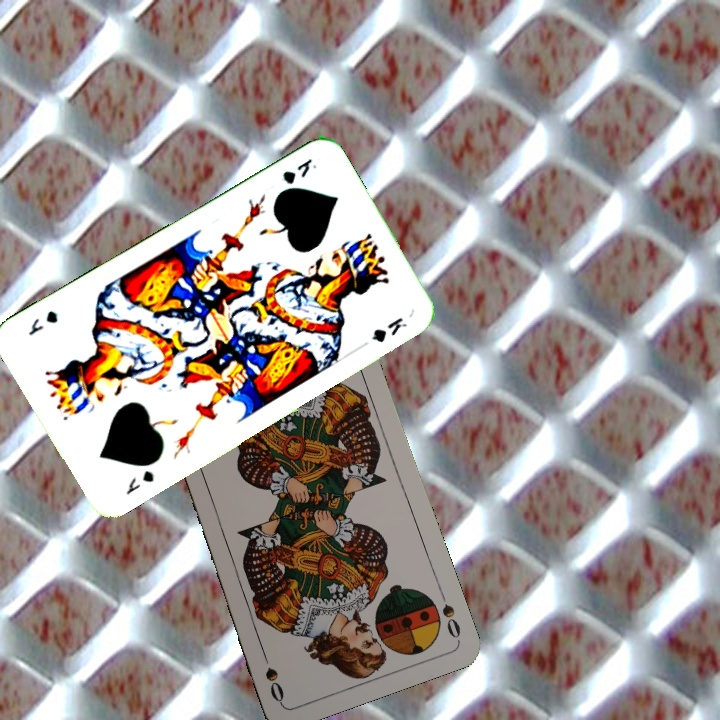GK: (278, 154, 319, 187), (122, 466, 157, 498)
SO: (434, 585, 463, 641)
